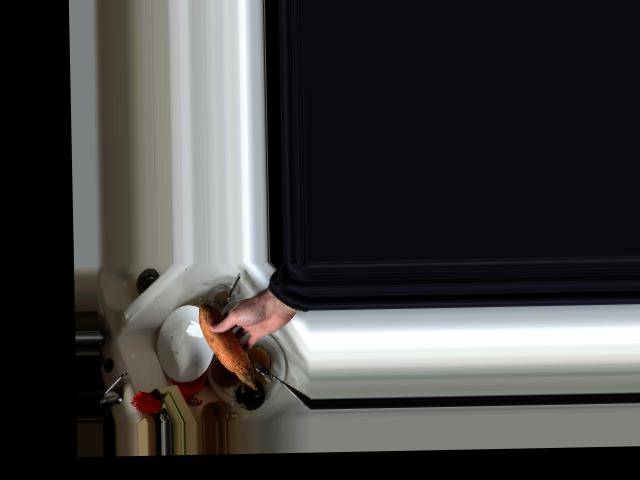sweet_potato: (195, 301, 259, 389)
